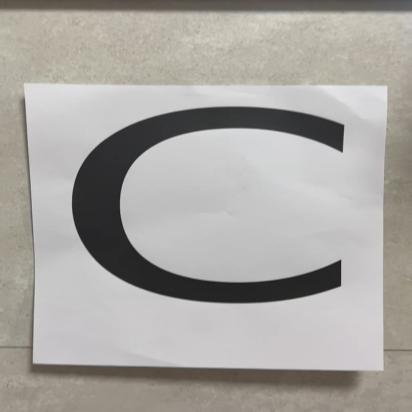seat: (20, 86, 389, 372)
